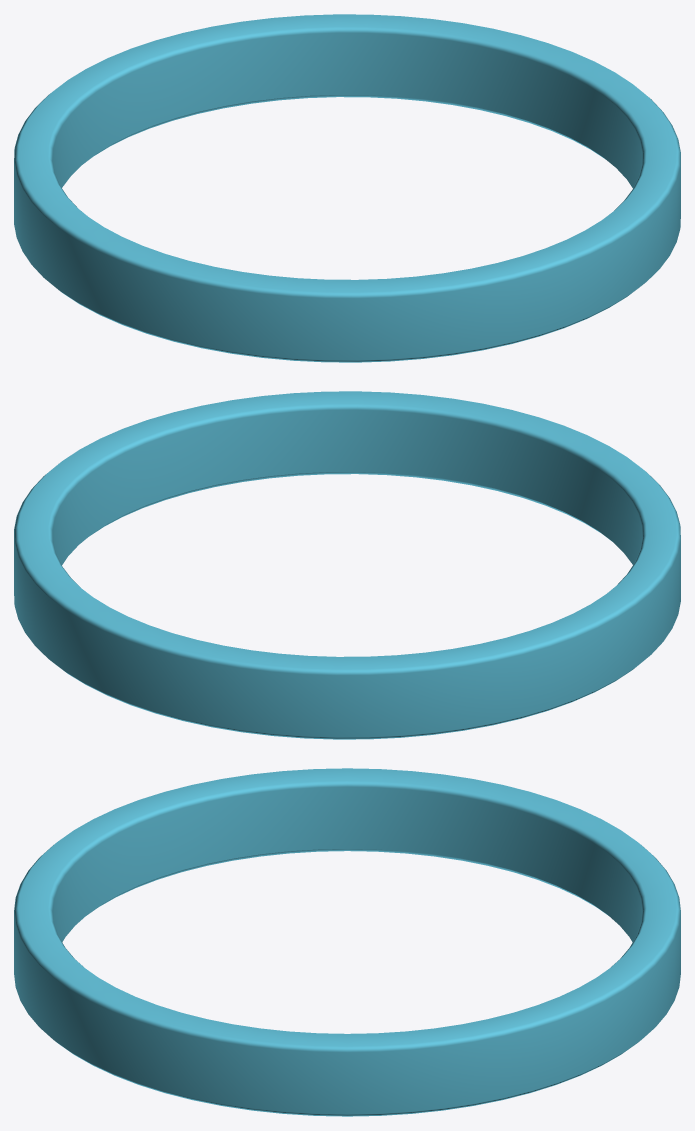
The picture shows the model from 3 angles, top to bottom: view 1: azimuth 30°, elevation 25°; view 2: azimuth 150°, elevation 25°; view 3: azimuth 270°, elevation 25°; orthographic projection.
Parts seen in each view (by area): view 1: seal_body; view 2: seal_body; view 3: seal_body.
Part boxes in pixels (box(x1,y1,x2,y2)): seal_body: box(14, 14, 680, 362); seal_body: box(14, 391, 680, 739); seal_body: box(14, 768, 680, 1116).
Size of the model in its own units: 0.1365 by 0.0159 by 0.1365.
